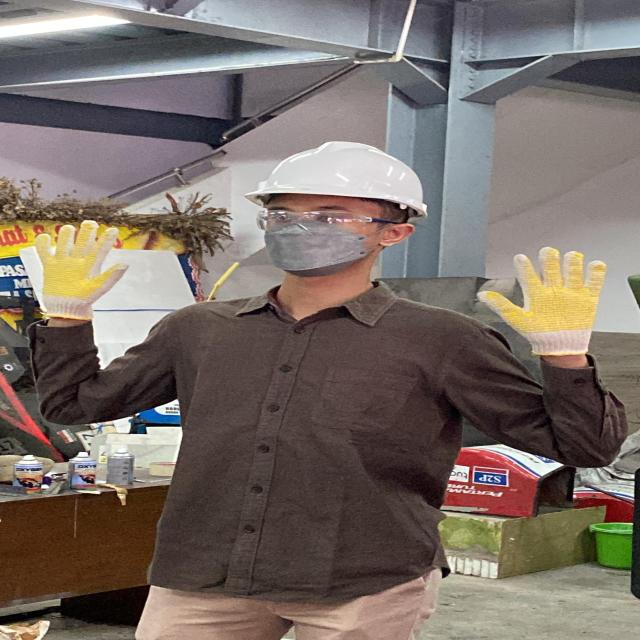face_mask: (249, 206, 383, 274)
glasses: (248, 205, 408, 237)
hand_glove: (467, 245, 617, 338), (19, 219, 136, 311)
head_helmet: (239, 134, 438, 212)
person: (16, 134, 625, 640)
